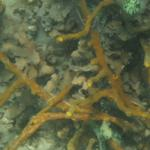alive: (1, 15, 143, 148)
